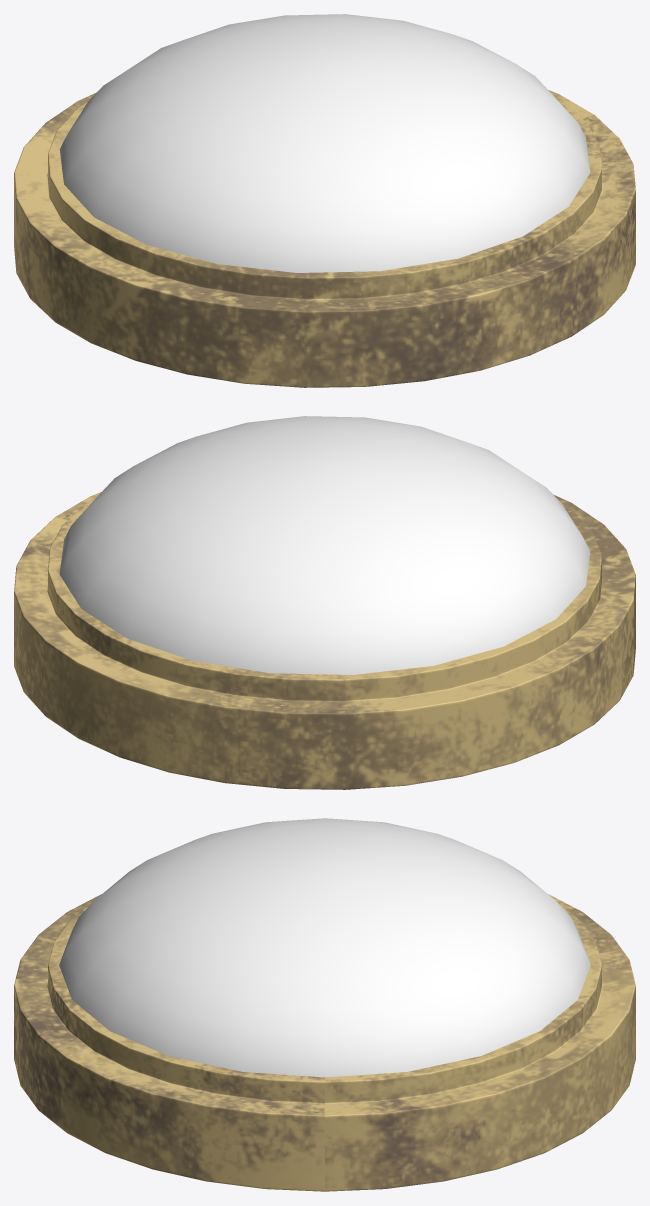
The model's file is compass1.fbx.
The picture shows the model from 3 angles, top to bottom: view 1: azimuth 30°, elevation 25°; view 2: azimuth 150°, elevation 25°; view 3: azimuth 270°, elevation 25°; orthographic projection.
Visible parts, largest first — view 1: glass_shell, base_metal; view 2: glass_shell, base_metal; view 3: glass_shell, base_metal.
Part boxes in pixels (left/top/right/bottom): glass_shell: left=59, top=14, right=590, bottom=272; base_metal: left=14, top=90, right=635, bottom=387; glass_shell: left=59, top=416, right=590, bottom=674; base_metal: left=14, top=492, right=635, bottom=789; glass_shell: left=59, top=818, right=590, bottom=1077; base_metal: left=14, top=894, right=635, bottom=1191.
Size of the model in its own units: 1186 by 418 by 1186.
